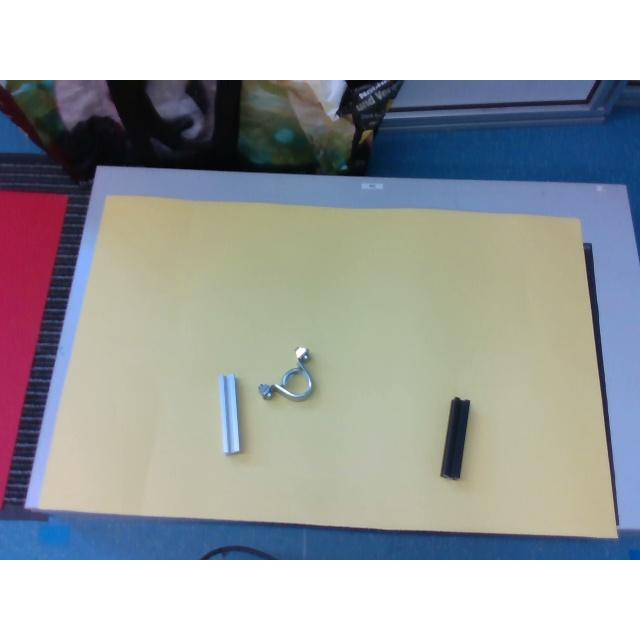F20_20_G: (441, 397, 469, 479), (218, 374, 238, 454)
Housing: (258, 346, 314, 402)
